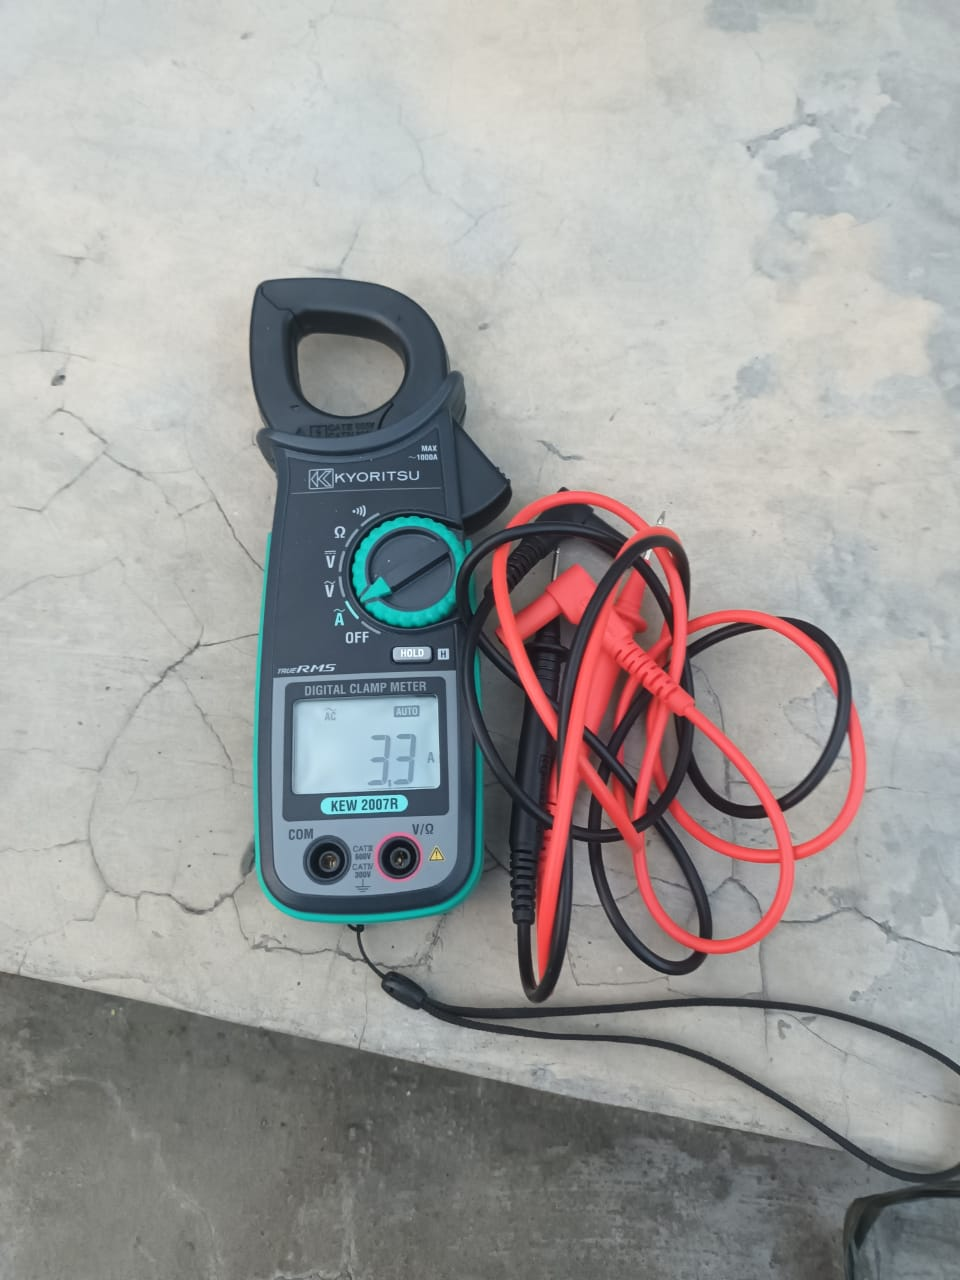TANG_AMPERE: (243, 276, 516, 923)
